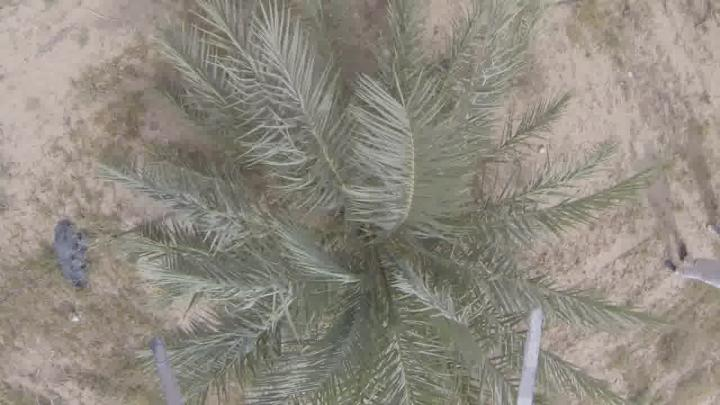Date-Palm-Crown: (214, 72, 509, 404)
